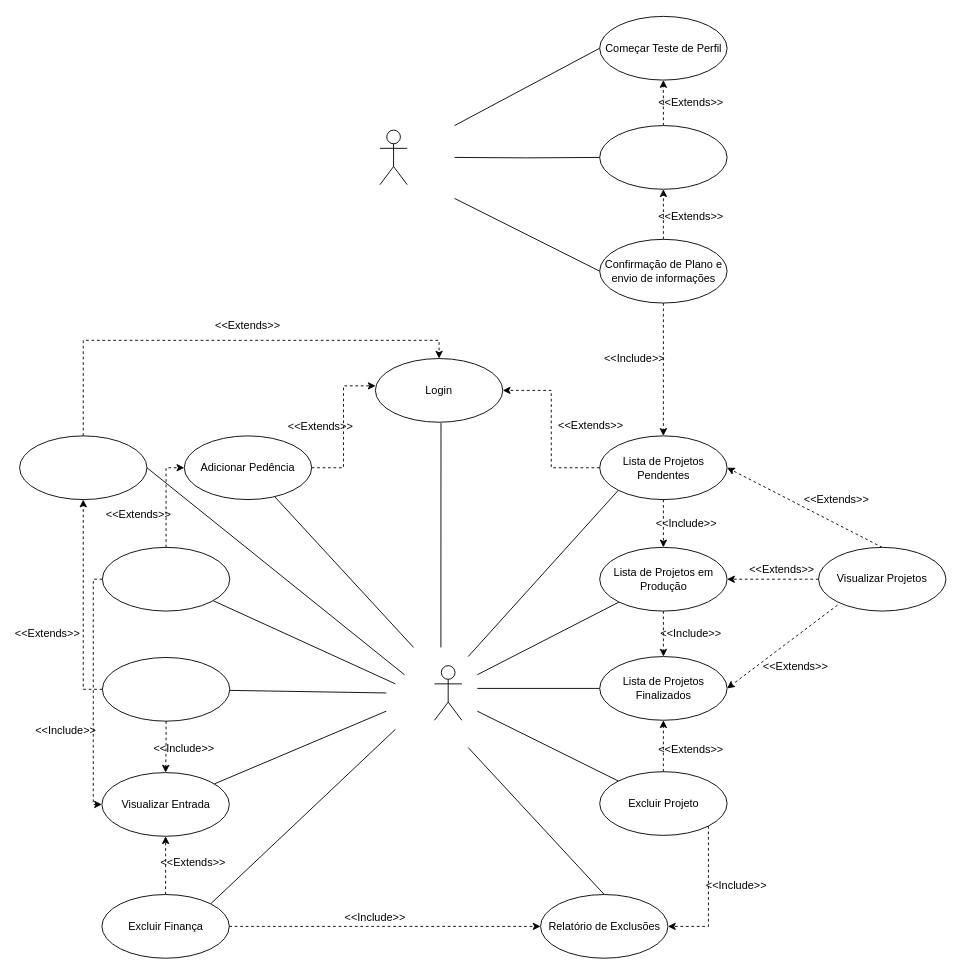
The diagram is 962 pixels wide and 974 high, and some of its shapes have lost their labels. The centre of each missing label's shape, as x and y in pixels:
"Adicionar Saída" belongs at (x=83, y=467).
"Administrador" belongs at (x=448, y=692).
"Cliente" belongs at (x=393, y=157).
"Preenchimento do Questionário" belongs at (x=663, y=157).
"Visualizar Pendência" belongs at (x=165, y=578).
"Visualizar Saída" belongs at (x=165, y=689).
